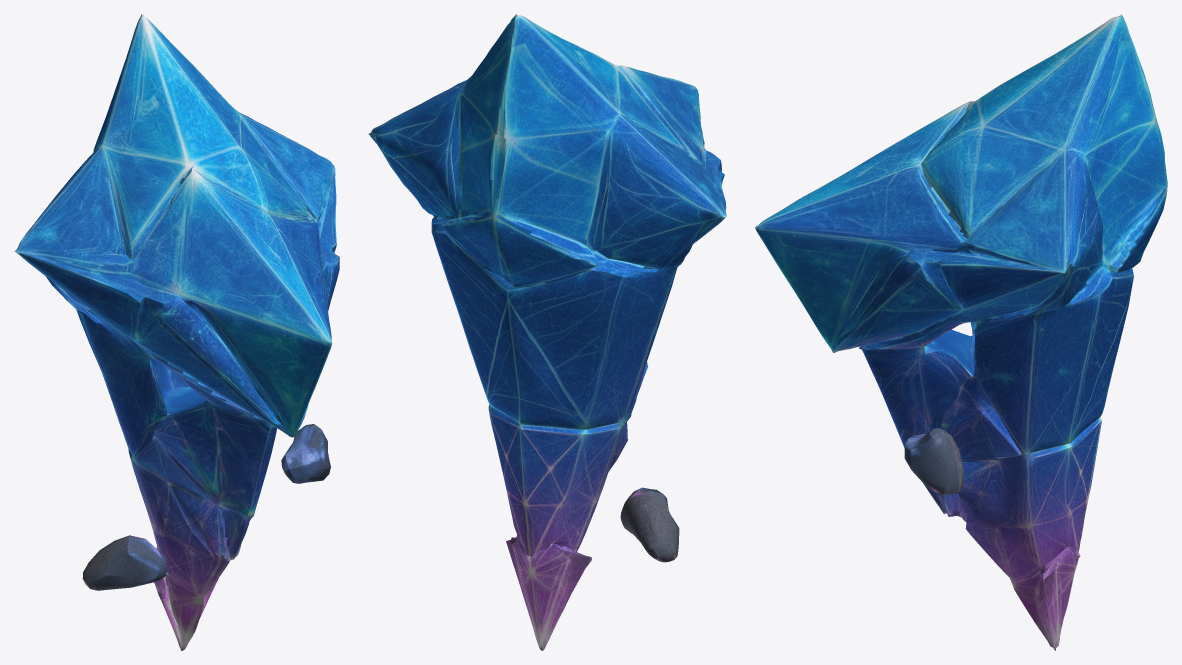
Rendered from nexus_core.glb.
3 views of the same model, side by side, from view 1: azimuth 30°, elevation 25°; view 2: azimuth 150°, elevation 25°; view 3: azimuth 270°, elevation 25° (orthographic). The views are drawn at different scales.
Size of the model in its own units: 1.05 by 1.89 by 1.12.
1 material, 1 textured.
